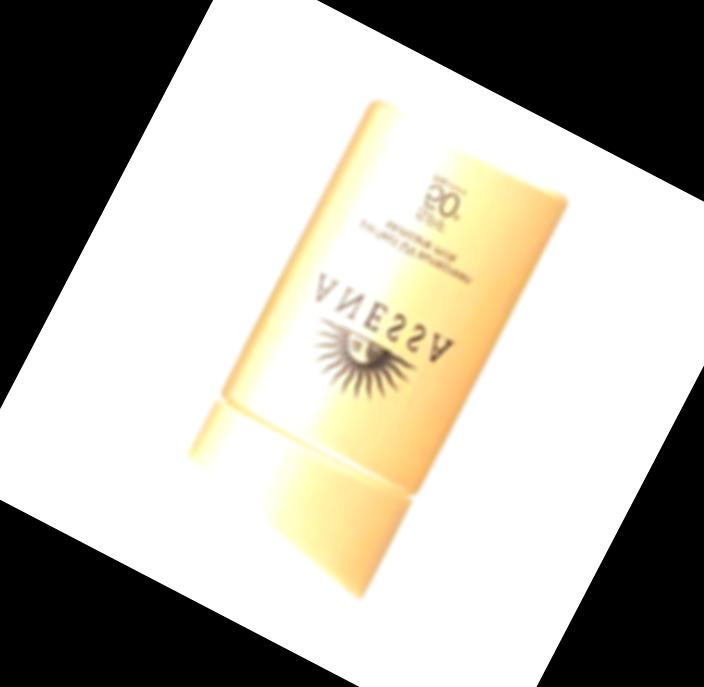cosmetic: (163, 101, 570, 606)
